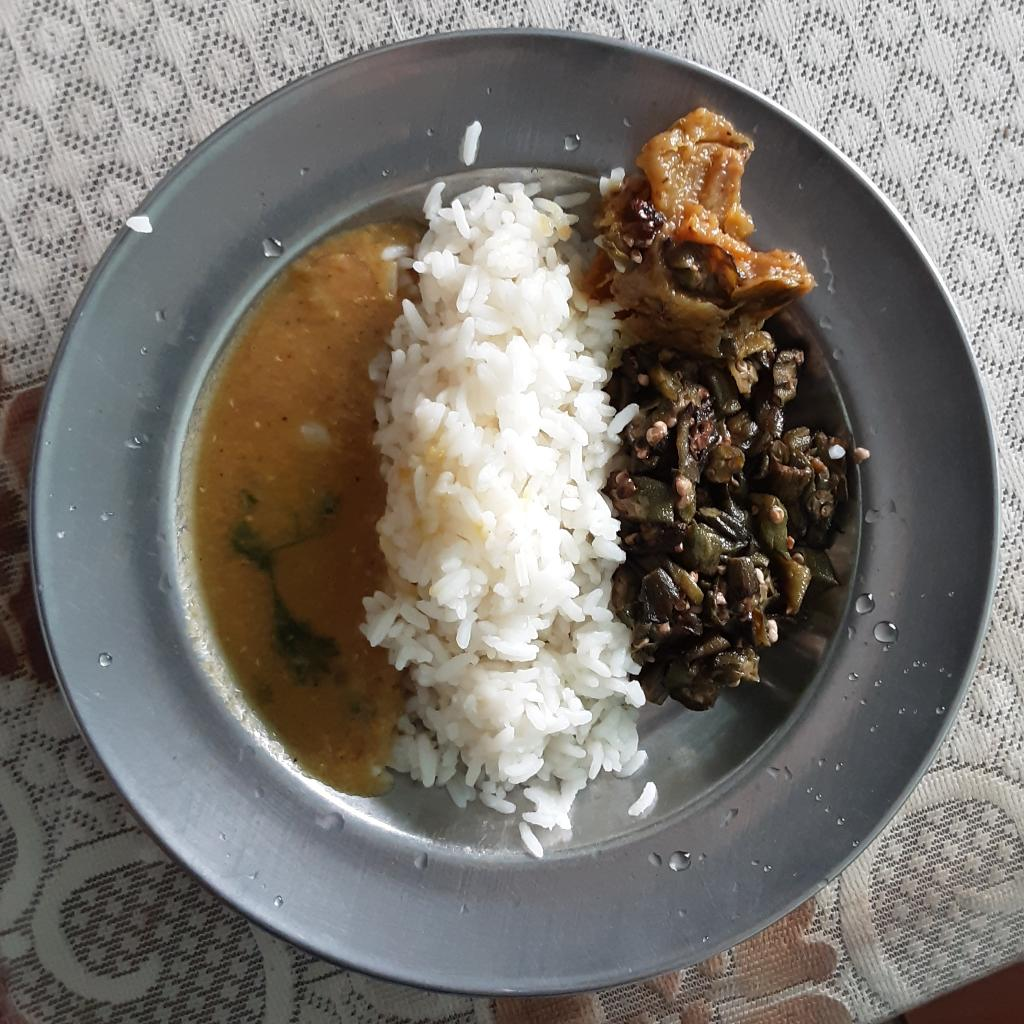daal: (177, 215, 416, 796)
rice: (359, 175, 648, 854)
vegetable: (579, 98, 864, 708)
